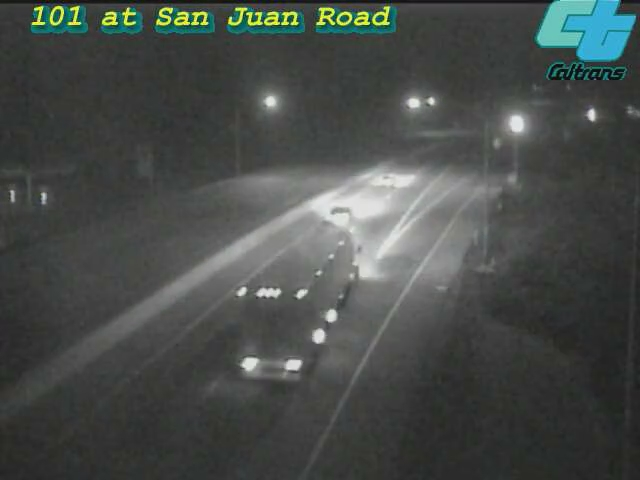vehicle: (348, 140, 428, 220), (306, 171, 386, 251), (270, 240, 350, 320), (492, 99, 542, 149), (567, 89, 617, 139)
